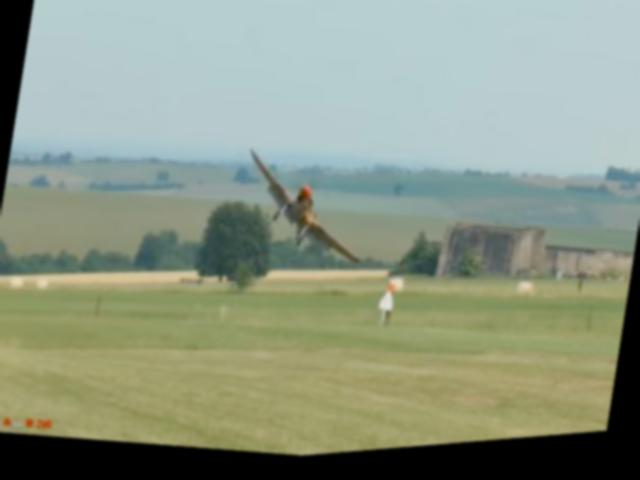uav: (231, 145, 373, 279)
